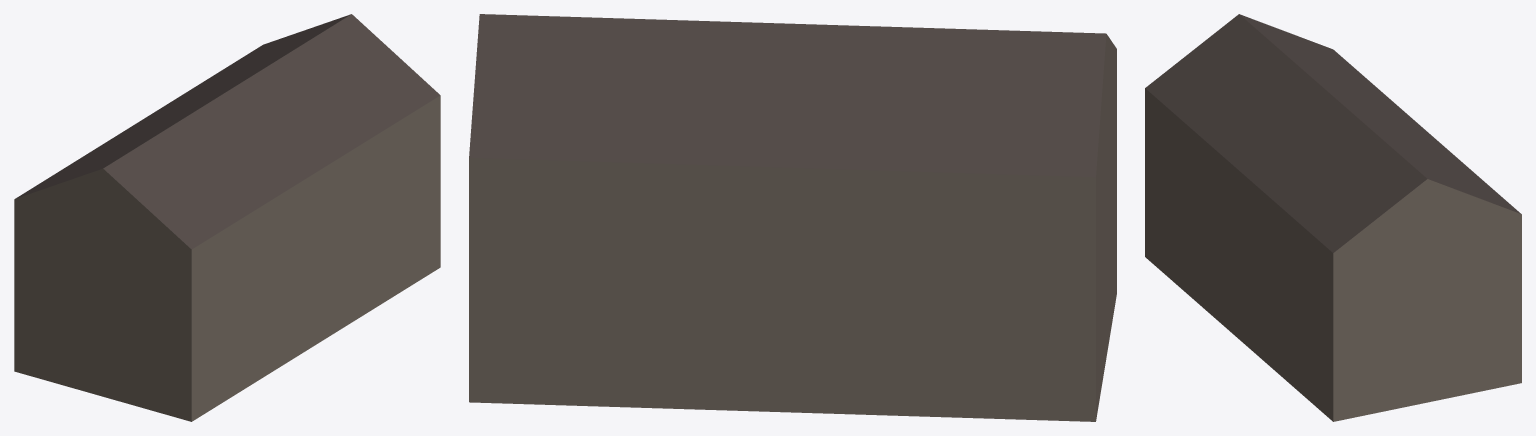
3 views of the same model, side by side, from view 1: azimuth 30°, elevation 25°; view 2: azimuth 150°, elevation 25°; view 3: azimuth 270°, elevation 25° (orthographic). The views are drawn at different scales.
Visible parts, largest first — view 1: HP-w408450733; view 2: HP-w408450733; view 3: HP-w408450733.
Part boxes in pixels (x1,y1,x2,y2): HP-w408450733: (14,14,440,421); HP-w408450733: (469,14,1116,421); HP-w408450733: (1145,14,1521,421).
Bounding box in the file's own units: 15.54 × 7.95 × 12.14.
